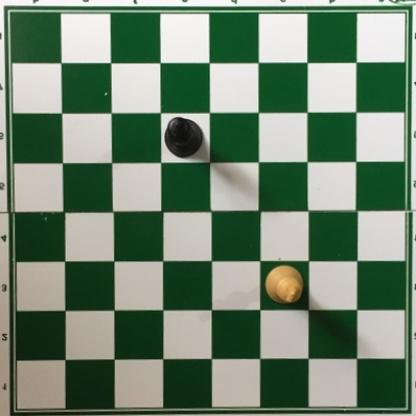black-king: (164, 116, 204, 158)
white-king: (265, 265, 305, 305)
